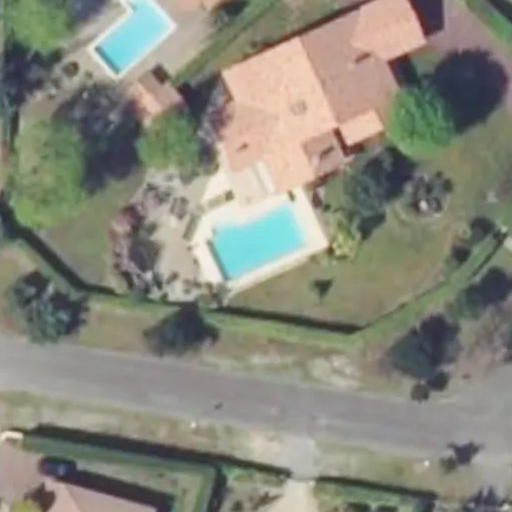pool: (197, 237, 314, 245)
